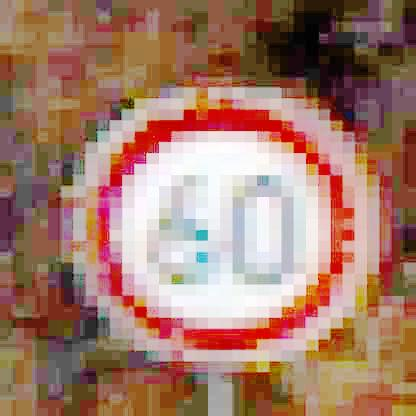Speed Limit -60-: (65, 85, 373, 366)
